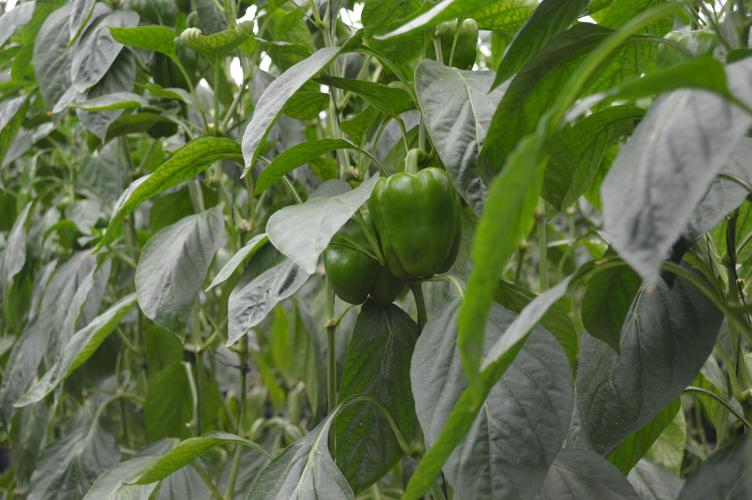BellPepper: (359, 169, 468, 280), (313, 232, 410, 312)
